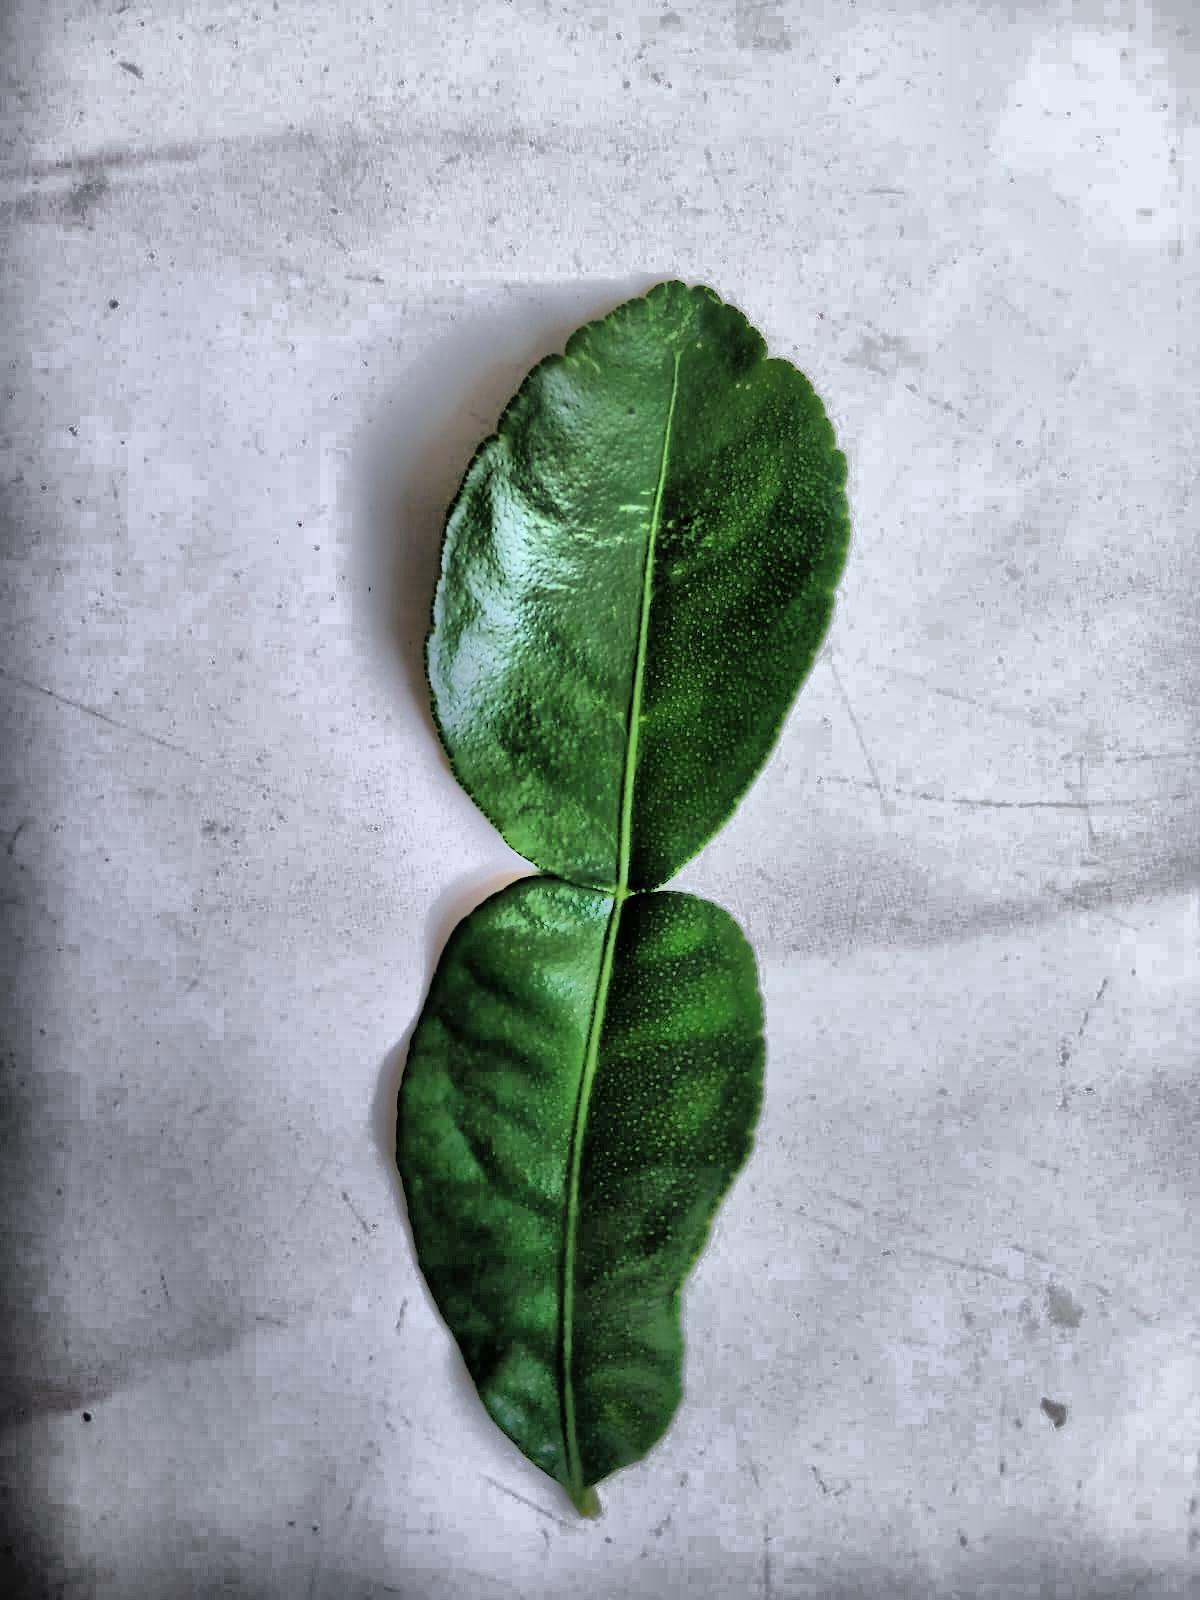daun jeruk: (397, 282, 850, 1514)
